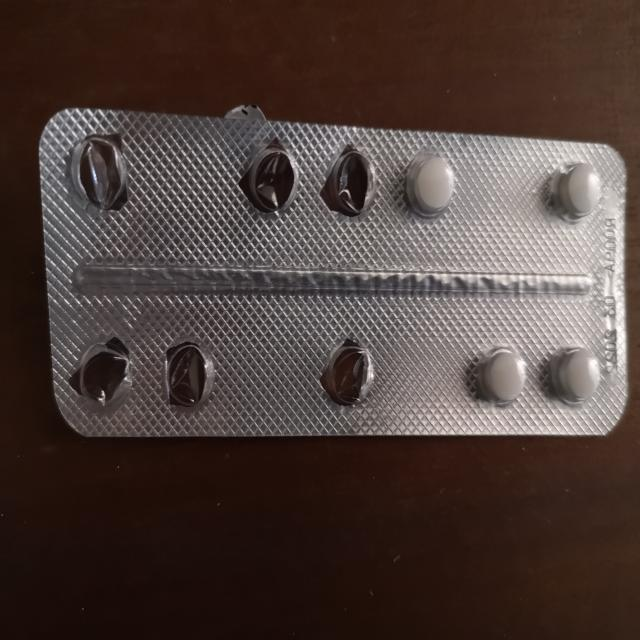Empty: (316, 137, 386, 229), (68, 328, 140, 414), (62, 130, 133, 214), (238, 134, 302, 223), (315, 331, 379, 411), (157, 334, 216, 418)
Pill: (544, 150, 608, 224), (400, 145, 460, 223), (546, 340, 606, 410), (473, 340, 533, 410)
